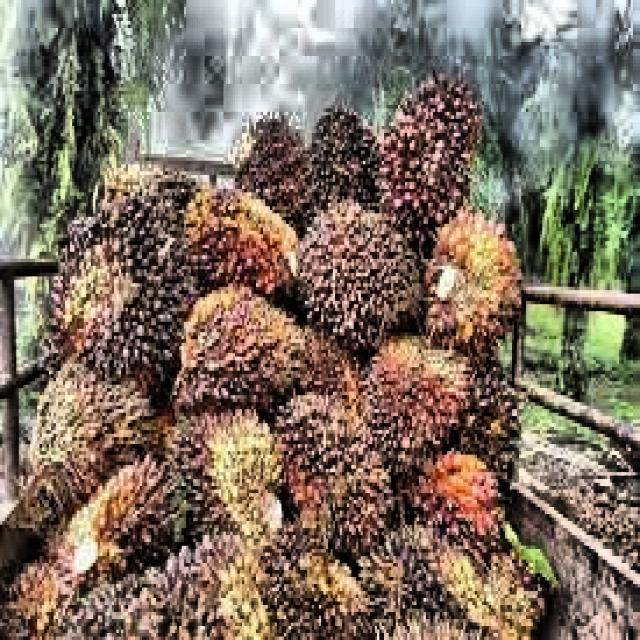FFB: (47, 221, 179, 398), (24, 361, 168, 522), (70, 449, 221, 582), (370, 66, 488, 231), (282, 398, 396, 547), (372, 529, 515, 640), (359, 346, 477, 474), (296, 218, 419, 340), (178, 300, 305, 413), (168, 418, 282, 537), (425, 215, 520, 339), (105, 168, 199, 289), (189, 182, 295, 288), (234, 115, 317, 233), (425, 453, 501, 555), (311, 108, 375, 219)
